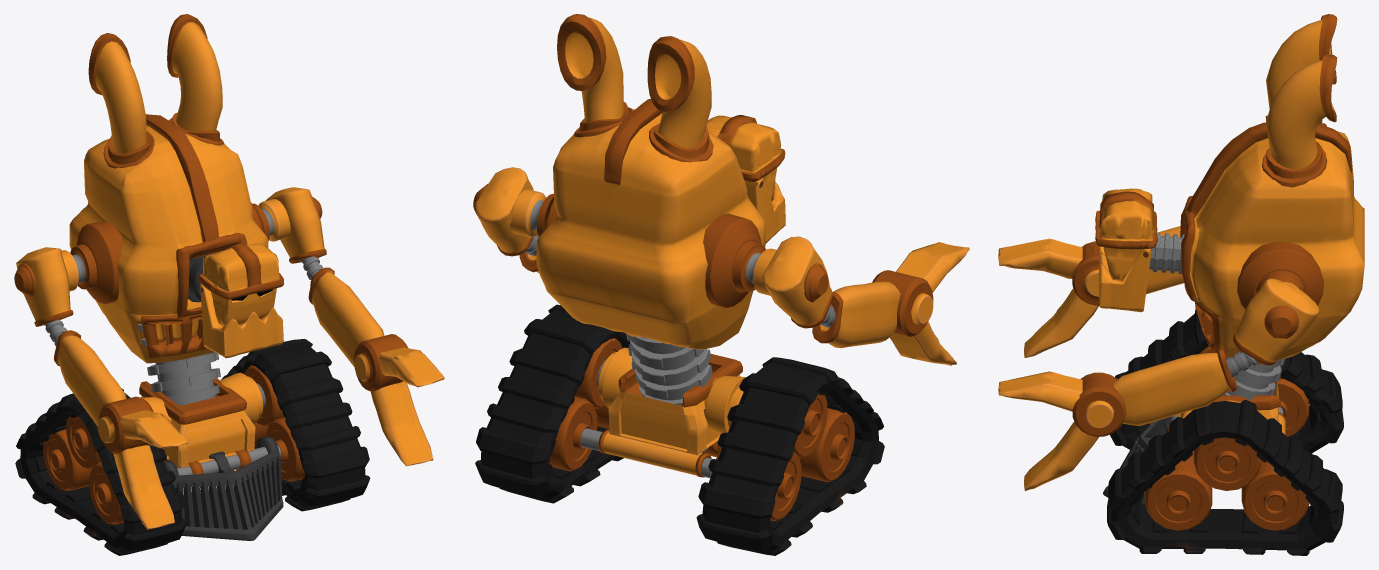
The model's file is Steambot_Low_FinalVersion.fbx.
3 renders of one model, left to right at view 1: azimuth 30°, elevation 25°; view 2: azimuth 150°, elevation 25°; view 3: azimuth 270°, elevation 25°, orthographic. The views are drawn at different scales.
Parts seen in each view (by area): view 1: body_low, tyretrack_right_low, funnels_low, tyretrack_left_low, cowcatcher_low, forearm_right_low, base_low, head_low, pincer_right_low, pincer_left_low, shoulderconnector_left_low, jaw_low (+15 smaller); view 2: body_low, tyretrack_left_low, tyretrack_right_low, funnels_low, base_low, shoulderconnector_left_low, forearm_right_low, waistconnector_low, shoulder_left_low, head_low, pincer_left_low, shoulder_right_low (+12 smaller); view 3: body_low, tyretrack_right_low, funnels_low, forearm_right_low, tyretrack_left_low, pincer_left_low, pincer_right_low, head_low, shoulder_right_low, shoulderconnector_right_low, wheel1_right_low, wheel3_right_low (+11 smaller).
Boxes of the visible parts, x1,y1,x2,y2 form: body_low: (69,114,268,363); tyretrack_right_low: (221,339,370,511); funnels_low: (88,14,224,168); tyretrack_left_low: (15,388,186,555); cowcatcher_low: (172,450,283,540); forearm_right_low: (54,267,384,426); base_low: (139,378,255,467); head_low: (198,243,283,326); pincer_right_low: (370,347,444,466); pincer_left_low: (113,410,187,529); shoulderconnector_left_low: (61,221,122,303); jaw_low: (200,284,283,358); body_low: (536,98,765,349); tyretrack_left_low: (696,357,884,555); tyretrack_right_low: (475,304,629,503); funnels_low: (557,14,713,162); base_low: (608,354,742,455); shoulderconnector_left_low: (703,213,776,307); forearm_right_low: (519,252,900,348); waistconnector_low: (626,334,712,404); shoulder_left_low: (763,236,833,328); head_low: (706,115,785,201); pincer_left_low: (889,242,969,365); shoulder_right_low: (475,167,533,256); body_low: (1180,122,1364,365); tyretrack_right_low: (1107,399,1343,555); funnels_low: (1262,14,1337,187); forearm_right_low: (1113,226,1237,425); tyretrack_left_low: (1110,309,1343,453); pincer_left_low: (998,238,1098,357); pincer_right_low: (998,371,1099,490); head_low: (1095,188,1157,279); shoulder_right_low: (1233,278,1319,365); shoulderconnector_right_low: (1237,242,1323,309); wheel1_right_low: (1144,451,1212,530); wheel3_right_low: (1241,460,1309,530).
Bounding box in the file's own units: 588 × 809 × 583.
